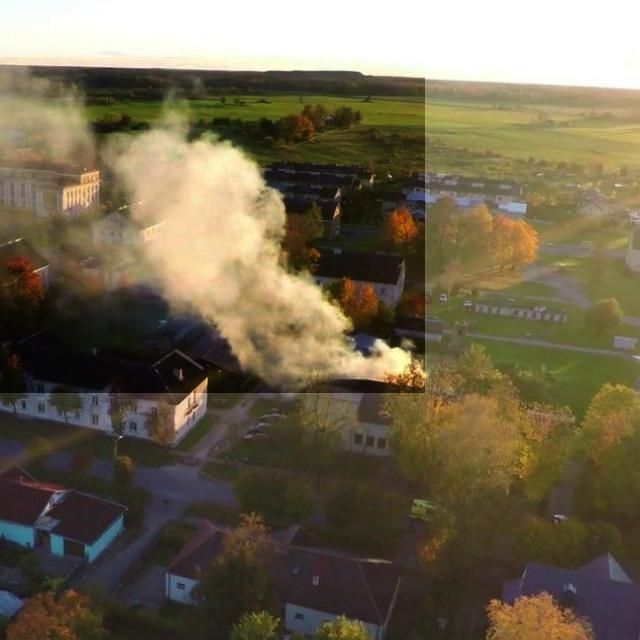Smoke: (0, 58, 425, 394)
